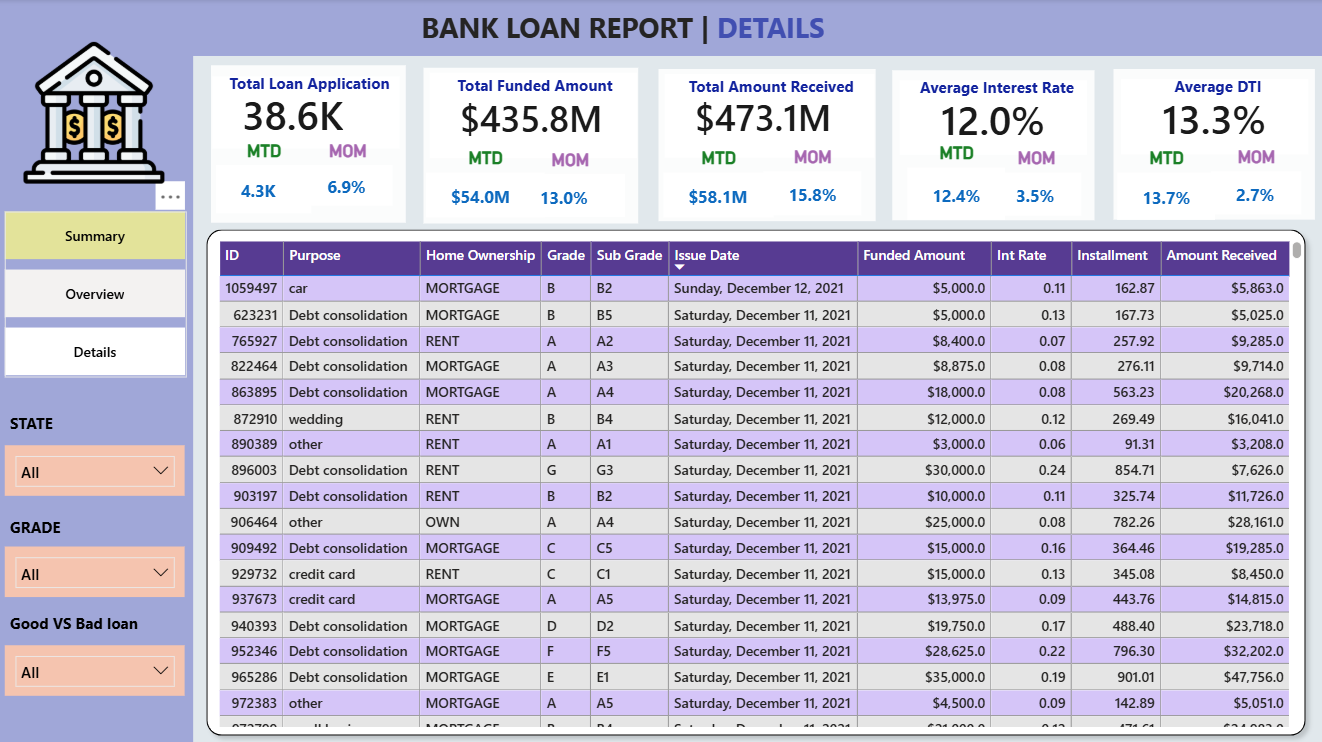

The dashboard page shown, as its layout file describes it:
{"tool":"powerbi","page":{"name":"Details","canvas":[1280,720],"ordinal":2},"visuals":[{"type":"shape","box":[0,0,1280,55],"z":0},{"type":"shape","box":[208.2,63.9,188.2,152],"z":0,"group":"g1"},{"type":"shape","box":[413.1,65.9,207.5,150.3],"z":0,"group":"g4"},{"type":"shape","box":[639.4,67.6,209.9,146.9],"z":0,"group":"g5"},{"type":"shape","box":[1078.2,67.6,194.7,145.4],"z":0,"group":"g6"},{"type":"shape","box":[865.2,68.8,195.2,145.1],"z":0,"group":"g3"},{"type":"shape","box":[0,54.2,190.3,665.3],"z":1000},{"type":"cardVisual","fields":{"Data":["Bank Loan data.total funded AMOUNT"]},"box":[419.2,71.3,199.8,82.4],"z":1000,"group":"g4"},{"type":"cardVisual","fields":{"Data":["Bank Loan data.total amount recived"]},"box":[645.5,72.8,202.1,80.5],"z":1000,"group":"g5"},{"type":"cardVisual","fields":{"Data":["Bank Loan data.Total Loan Applications"]},"box":[208.6,74.5,181,70],"z":1000,"group":"g1"},{"type":"cardVisual","fields":{"Data":["Bank Loan data.Avg dti"]},"box":[1085.5,77.7,180.4,72.5],"z":1000,"group":"g6"},{"type":"cardVisual","fields":{"Data":["Bank Loan data.average interest rate"]},"box":[872.5,78.9,180.9,72.3],"z":1000,"group":"g3"},{"type":"textbox","box":[405.4,3.6,439.1,48.3],"z":2000},{"type":"textbox","box":[216,65.9,173.3,34.2],"z":2000,"group":"g1"},{"type":"textbox","box":[428.6,67.2,184.1,36.6],"z":2000,"group":"g4"},{"type":"textbox","box":[655.1,68.9,186.3,35.8],"z":2000,"group":"g5"},{"type":"textbox","box":[1092.8,68.9,172.8,35.4],"z":2000,"group":"g6"},{"type":"textbox","box":[879.8,70.1,173.3,35.3],"z":2000,"group":"g3"},{"type":"group","id":"g1","title":"Group 1","box":[207.9,63.9,188.5,152],"z":3000},{"type":"cardVisual","title":"MTD","fields":{"Data":["Bank Loan data.MTD loan application"]},"box":[207.9,136.5,102.5,76],"z":3000,"group":"g1"},{"type":"cardVisual","title":"MTD","fields":{"Data":["Bank Loan data.Mtd average interest"]},"box":[874.6,139.1,105,79.6],"z":3000,"group":"g3"},{"type":"cardVisual","title":"MTD","fields":{"Data":["Bank Loan data.Mtd Total amont received"]},"box":[639.9,143,116.3,73],"z":3000,"group":"g5"},{"type":"cardVisual","title":"MTD","fields":{"Data":["Bank Loan data.MTD FUNDED AMOUNT"]},"box":[410.3,143.5,124.7,72.2],"z":3000,"group":"g4"},{"type":"cardVisual","title":"MTD","fields":{"Data":["Bank Loan data.MTD Avg DTI"]},"box":[1077.4,143.5,104.9,74.9],"z":3000,"group":"g6"},{"type":"group","id":"g2","title":"Group 1","box":[410.3,65.9,210.3,150.3],"z":4000},{"type":"cardVisual","title":"MOM","fields":{"Data":["Bank Loan data.mon loan application"]},"box":[291.6,136.7,97.6,68.3],"z":4000,"group":"g1"},{"type":"cardVisual","title":"MOM","fields":{"Data":["Bank Loan data.MOM avg dti"]},"box":[1168.2,142.2,97.3,70.8],"z":4000,"group":"g6"},{"type":"cardVisual","title":"MOM","fields":{"Data":["Bank Loan data.mon total amount application"]},"box":[736.5,142.9,105,71.5],"z":4000,"group":"g5"},{"type":"cardVisual","title":"MOM","fields":{"Data":["Bank Loan data.moM avg interest rate"]},"box":[955.5,143.2,97.6,70.7],"z":4000,"group":"g3"},{"type":"cardVisual","title":"MOM","fields":{"Data":["Bank Loan data.mon FUNDED AMOUNT application"]},"box":[496.5,144.8,116.9,70.9],"z":4000,"group":"g4"},{"type":"group","id":"g3","title":"Group 1","box":[865.2,68.8,195.2,149.9],"z":5000},{"type":"group","id":"g4","title":"Group 2","box":[410.3,65.9,210.3,150.3],"z":5001,"group":"g2"},{"type":"group","id":"g5","title":"Group 2","box":[639.4,67.6,209.9,148.4],"z":6000},{"type":"group","id":"g6","title":"Group 1","box":[1077.4,67.6,195.4,150.8],"z":7000},{"type":"shape","box":[194.1,214,1078.7,506.4],"z":8000},{"type":"slicer","fields":{"Values":["Bank Loan data.Address State"]},"box":[8.8,431,173.9,49.1],"z":9000},{"type":"textbox","box":[8.8,394.4,70.6,39.1],"z":10000},{"type":"slicer","fields":{"Values":["Bank Loan data.Grade"]},"box":[8.8,528,173.9,49.1],"z":11000},{"type":"slicer","fields":{"Values":["Bank Loan data.Good VS Bad Loan"]},"box":[8.8,623.7,173.9,49.1],"z":12000},{"type":"textbox","box":[8.8,495.2,70.6,39.1],"z":13000},{"type":"textbox","box":[8.7,587.2,165.5,38.6],"z":14000},{"type":"tableEx","fields":{"Values":["Bank Loan data.Customer ID","Bank Loan data.Purpose Of Loan","Bank Loan data.home_ownership","Bank Loan data.Grade","Bank Loan data.sub_grade","Bank Loan data.issue_date","Bank Loan data.Total Funded Amount","Sum(Bank Loan data.Interest Rate)","Sum(Bank Loan data.Installment)","Bank Loan data.Total Amount Received"]},"box":[210.3,228.9,1055.1,477.8],"z":15000},{"type":"pageNavigator","box":[8.7,205.3,174.2,160.5],"z":16000},{"type":"image","box":[26.5,35,136.3,149.6],"z":17000}]}

Visuals, with their boxes in screenshot pixels (x1, y1, x2, y2), scaled from the page's 1280x720 canvas onto the 1322x742 screenshot:
shape: bbox(0, 0, 1321, 57)
shape: bbox(215, 66, 409, 222)
shape: bbox(427, 68, 641, 223)
shape: bbox(660, 70, 877, 221)
shape: bbox(1114, 70, 1315, 220)
shape: bbox(894, 71, 1095, 220)
shape: bbox(0, 56, 197, 741)
cardVisual - Bank Loan data.total funded AMOUNT: bbox(433, 73, 639, 158)
cardVisual - Bank Loan data.total amount recived: bbox(667, 75, 875, 158)
cardVisual - Bank Loan data.Total Loan Applications: bbox(215, 77, 402, 149)
cardVisual - Bank Loan data.Avg dti: bbox(1121, 80, 1307, 155)
cardVisual - Bank Loan data.average interest rate: bbox(901, 81, 1088, 156)
textbox: bbox(419, 4, 872, 53)
textbox: bbox(223, 68, 402, 103)
textbox: bbox(443, 69, 633, 107)
textbox: bbox(677, 71, 869, 108)
textbox: bbox(1129, 71, 1307, 107)
textbox: bbox(909, 72, 1088, 109)
"Group 1" group: bbox(215, 66, 409, 222)
"MTD" cardVisual: bbox(215, 141, 321, 219)
"MTD" cardVisual: bbox(903, 143, 1012, 225)
"MTD" cardVisual: bbox(661, 147, 781, 223)
"MTD" cardVisual: bbox(424, 148, 553, 222)
"MTD" cardVisual: bbox(1113, 148, 1221, 225)
"Group 1" group: bbox(424, 68, 641, 223)
"MOM" cardVisual: bbox(301, 141, 402, 211)
"MOM" cardVisual: bbox(1207, 147, 1307, 220)
"MOM" cardVisual: bbox(761, 147, 869, 221)
"MOM" cardVisual: bbox(987, 148, 1088, 220)
"MOM" cardVisual: bbox(513, 149, 634, 222)
"Group 1" group: bbox(894, 71, 1095, 225)
"Group 2" group: bbox(424, 68, 641, 223)
"Group 2" group: bbox(660, 70, 877, 223)
"Group 1" group: bbox(1113, 70, 1315, 225)
shape: bbox(200, 221, 1315, 741)
slicer - Bank Loan data.Address State: bbox(9, 444, 189, 495)
textbox: bbox(9, 406, 82, 447)
slicer - Bank Loan data.Grade: bbox(9, 544, 189, 595)
slicer - Bank Loan data.Good VS Bad Loan: bbox(9, 643, 189, 693)
textbox: bbox(9, 510, 82, 551)
textbox: bbox(9, 605, 180, 645)
tableEx - Bank Loan data.Customer ID x Bank Loan data.Purpose Of Loan: bbox(217, 236, 1307, 728)
pageNavigator: bbox(9, 212, 189, 377)
image: bbox(27, 36, 168, 190)
